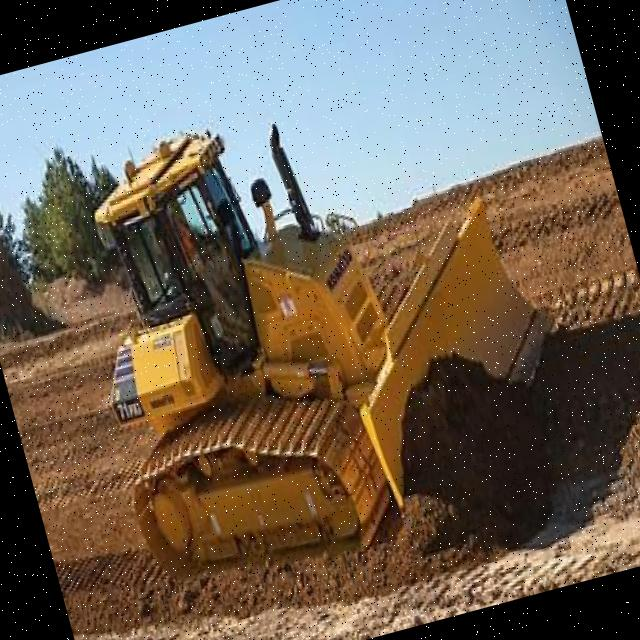Bulldozer: (5, 17, 635, 640)
